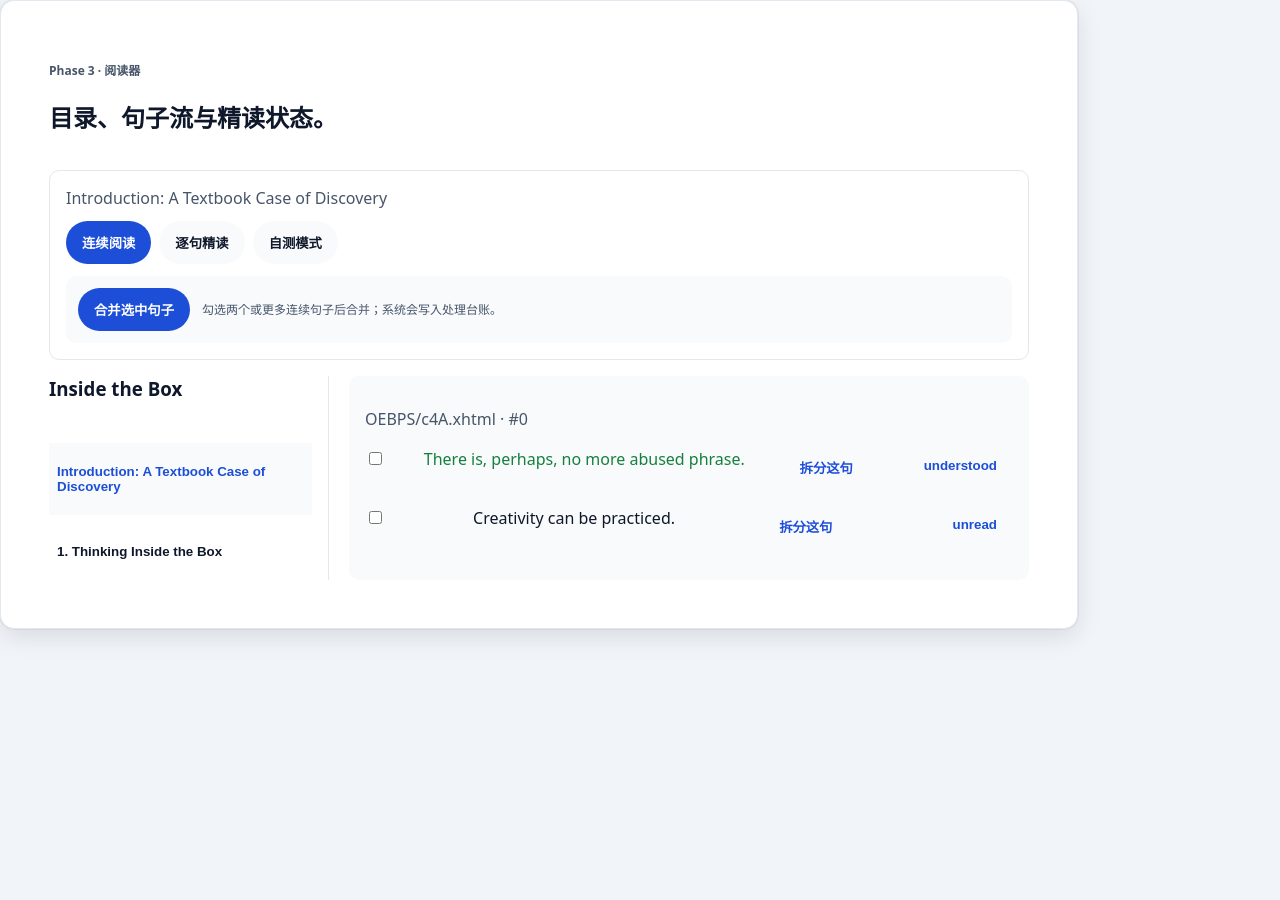
Test: ReaderPanel › opens a clear split panel and splits the active sentence
This screenshot has width=1280, height=900.
Click the button with test id "split-target-1001" at (826, 467), box x1=784 y1=446 x2=869 y2=489
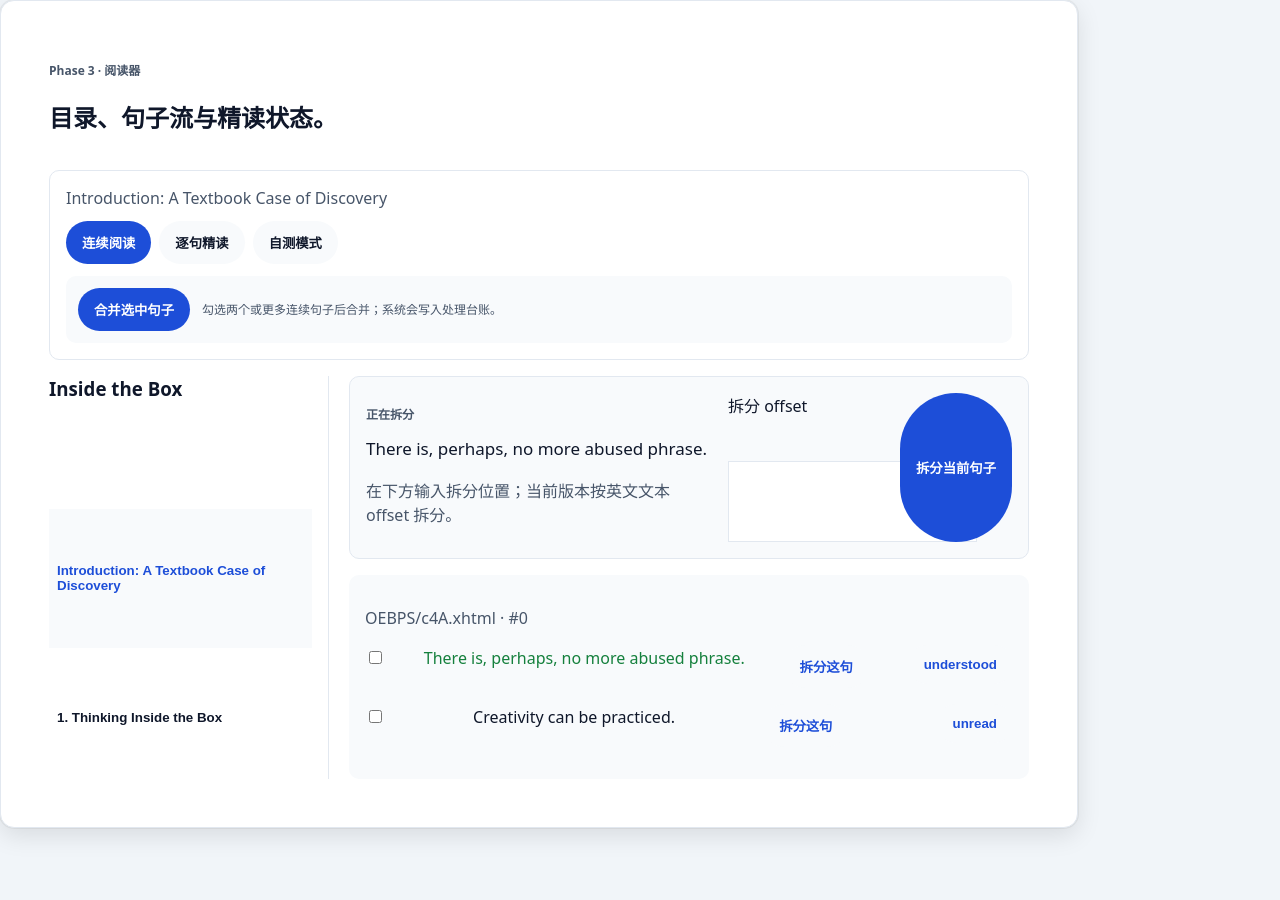
Expected: the text "There is, perhaps, no more abused phrase." is shown, x1=366 y1=435 x2=716 y2=462
Result: the text "正在拆分" is shown at x1=366 y1=406 x2=414 y2=423
Result: the text "在下方输入拆分位置" is shown at x1=366 y1=480 x2=670 y2=526
Type "9" into the field with test id "split-offset" at (852, 502), box x1=728 y1=461 x2=977 y2=542
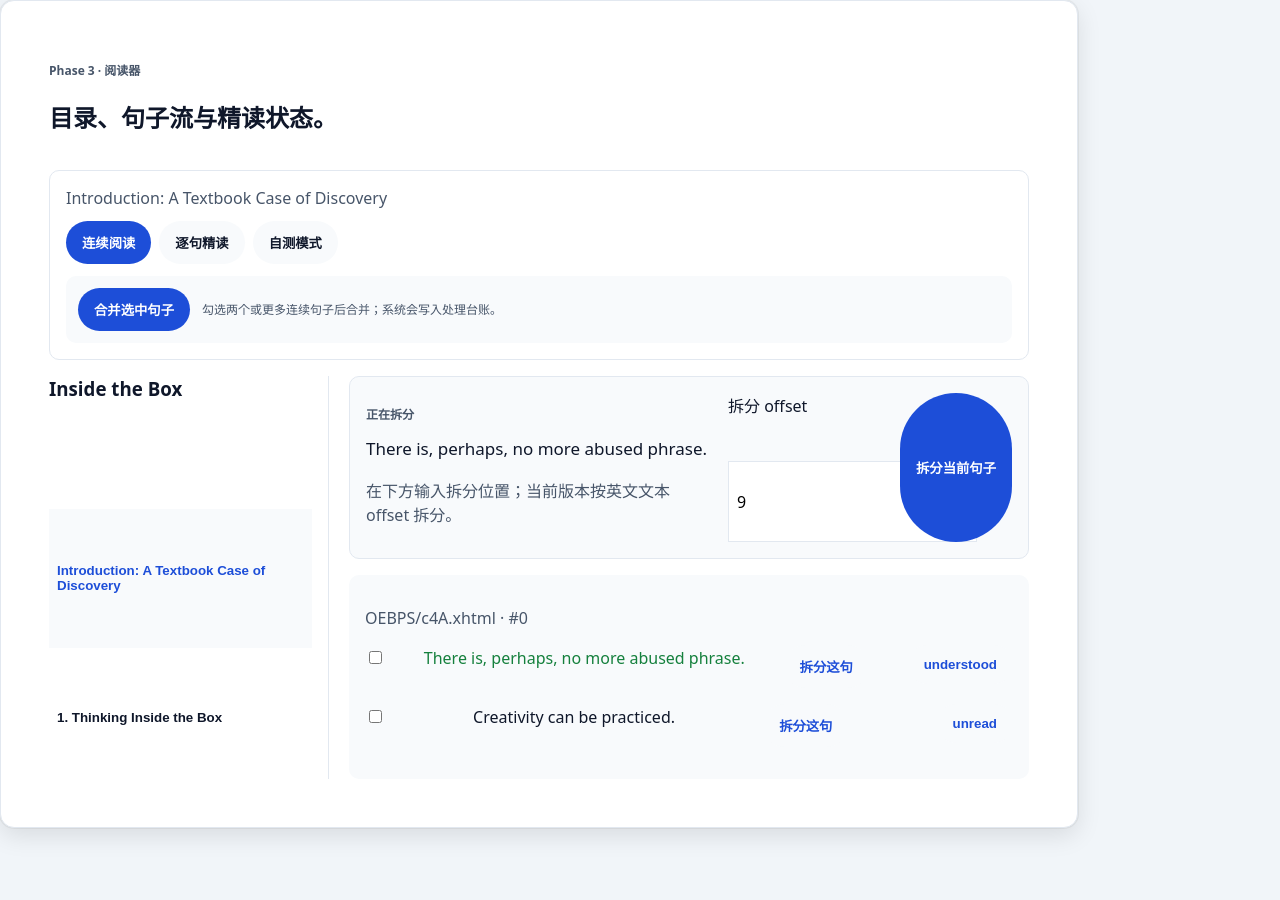
Click the button with test id "split-active" at (956, 467), box x1=900 y1=393 x2=1012 y2=542
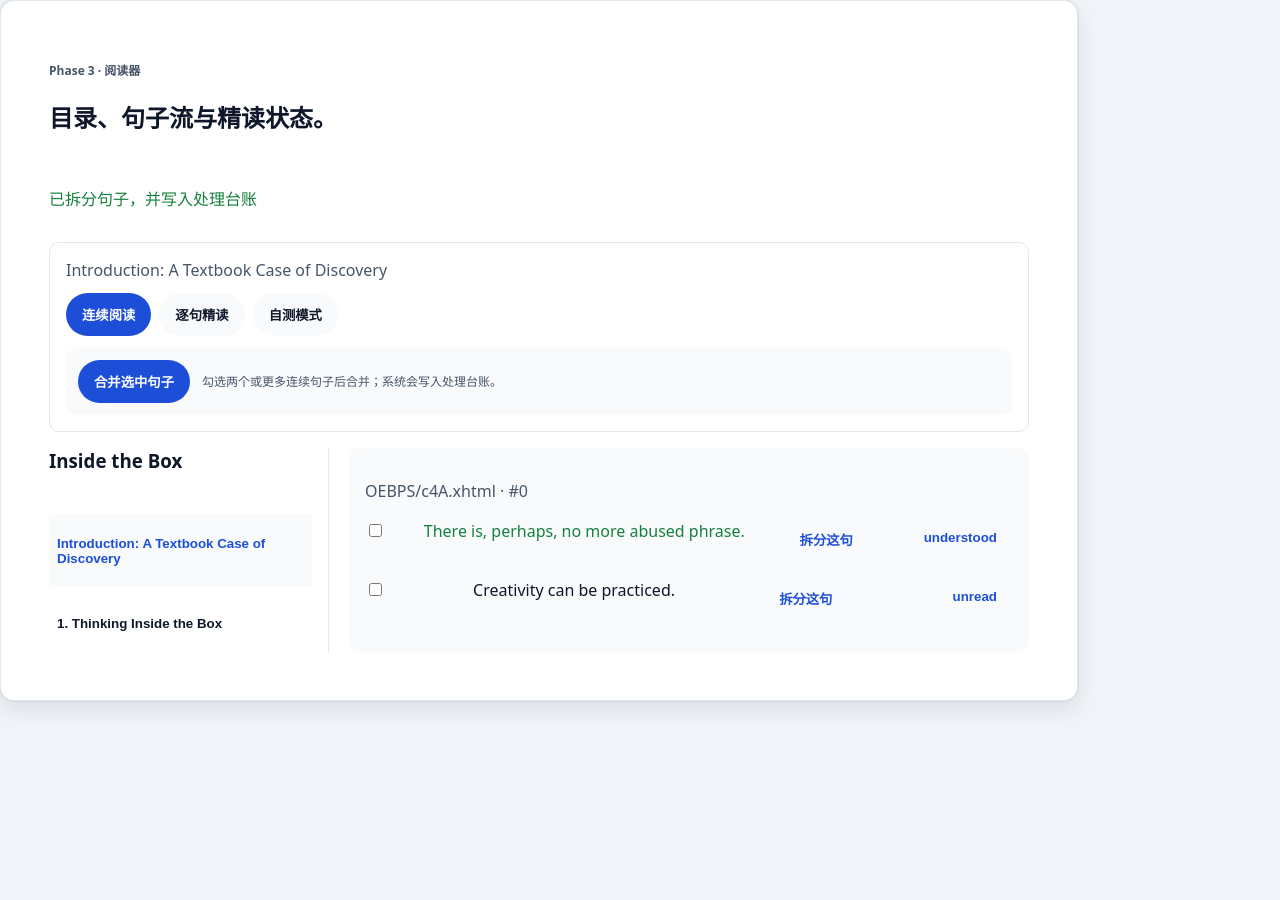
Result: the text "已拆分句子，并写入处理台账" is shown at x1=49 y1=188 x2=257 y2=210
